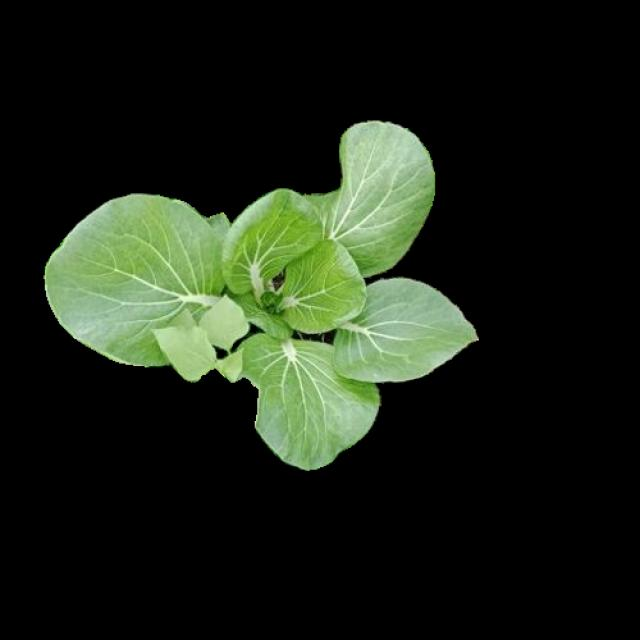healthy: (44, 120, 473, 466)
not-mature: (48, 123, 476, 468)
